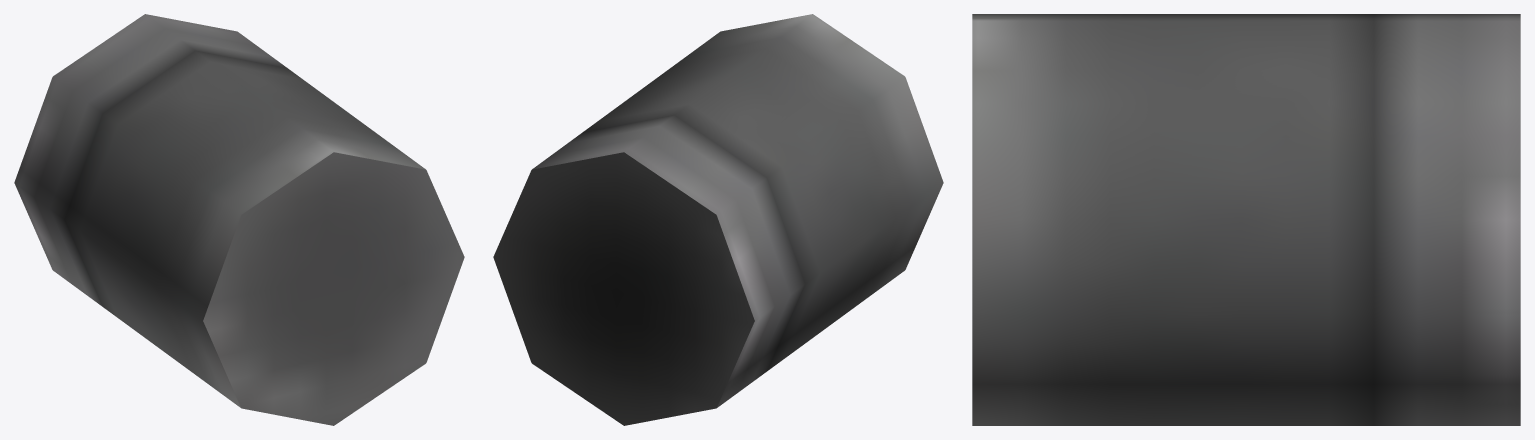
File: octans_whip_antenna_srf_1_base.obj
The picture shows the model from 3 angles, left to right: view 1: azimuth 30°, elevation 25°; view 2: azimuth 150°, elevation 25°; view 3: azimuth 270°, elevation 25°; orthographic projection. The views are drawn at different scales.
Parts seen in each view (by area): view 1: mesh1; view 2: mesh1; view 3: mesh1.
Part boxes in pixels (left/top/right/bottom): mesh1: left=14, top=14, right=464, bottom=425; mesh1: left=493, top=14, right=943, bottom=425; mesh1: left=972, top=14, right=1520, bottom=425.
Bounding box in the file's own units: 0.05 × 0.05 × 0.0625.
1 material, 1 textured.
